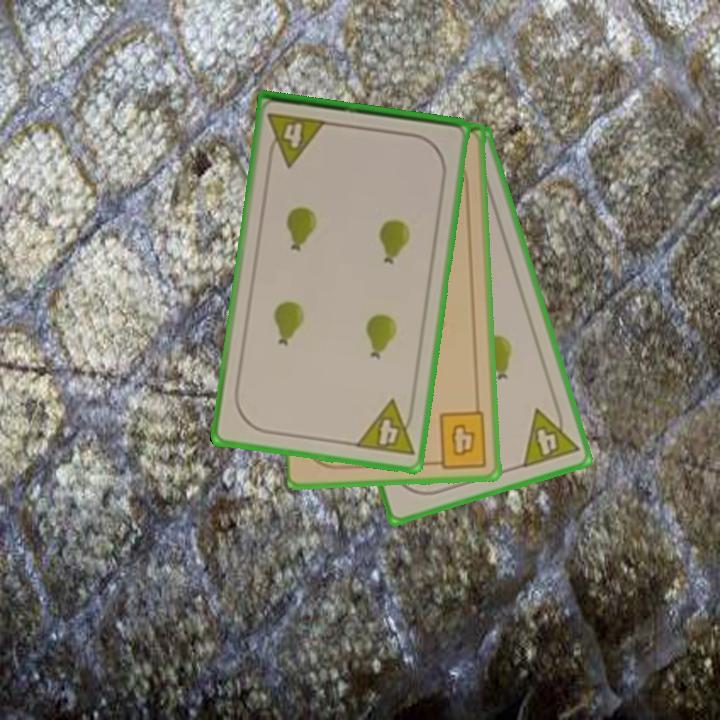4b: (428, 408, 490, 471)
4p: (518, 399, 582, 471), (351, 396, 418, 459), (264, 109, 330, 169)
